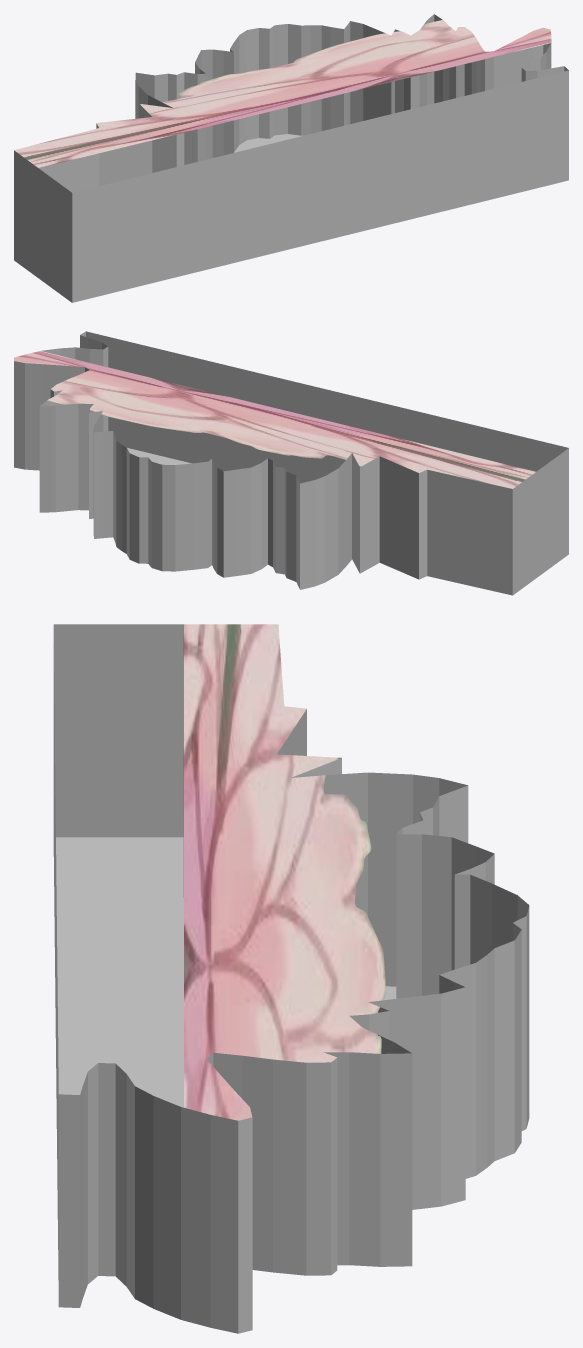
File: flower 2.fbx
3 renders of one model, top to bottom at view 1: azimuth 30°, elevation 25°; view 2: azimuth 150°, elevation 25°; view 3: azimuth 270°, elevation 25°, orthographic. The views are drawn at different scales.
Visible parts, largest first — view 1: Curve; view 2: Curve; view 3: Curve.
Part boxes in pixels (x1=…): Curve: x1=14, y1=14, x2=568, y2=302; Curve: x1=14, y1=331, x2=568, y2=595; Curve: x1=53, y1=624, x2=529, y2=1333.
Bounding box in the file's own units: 100 × 20 × 40.49.
Materials: 2 (1 with a texture image).
